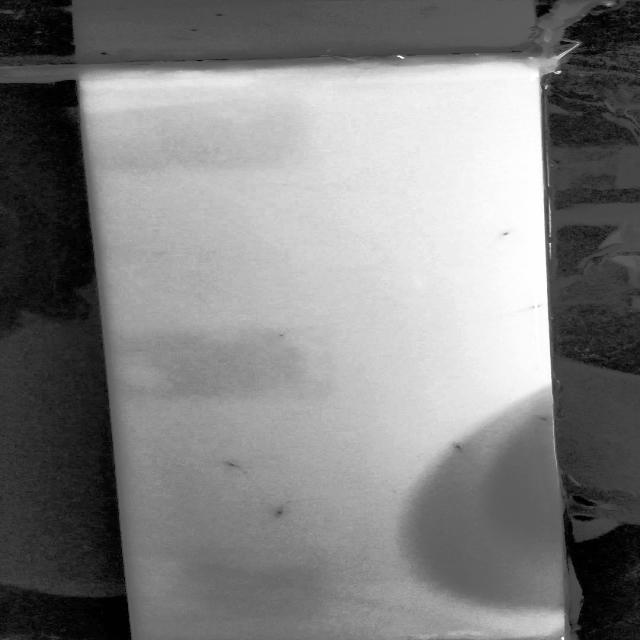shrimp: (211, 458, 248, 473), (452, 441, 476, 459), (274, 499, 292, 522), (495, 224, 522, 239), (522, 412, 555, 422)
